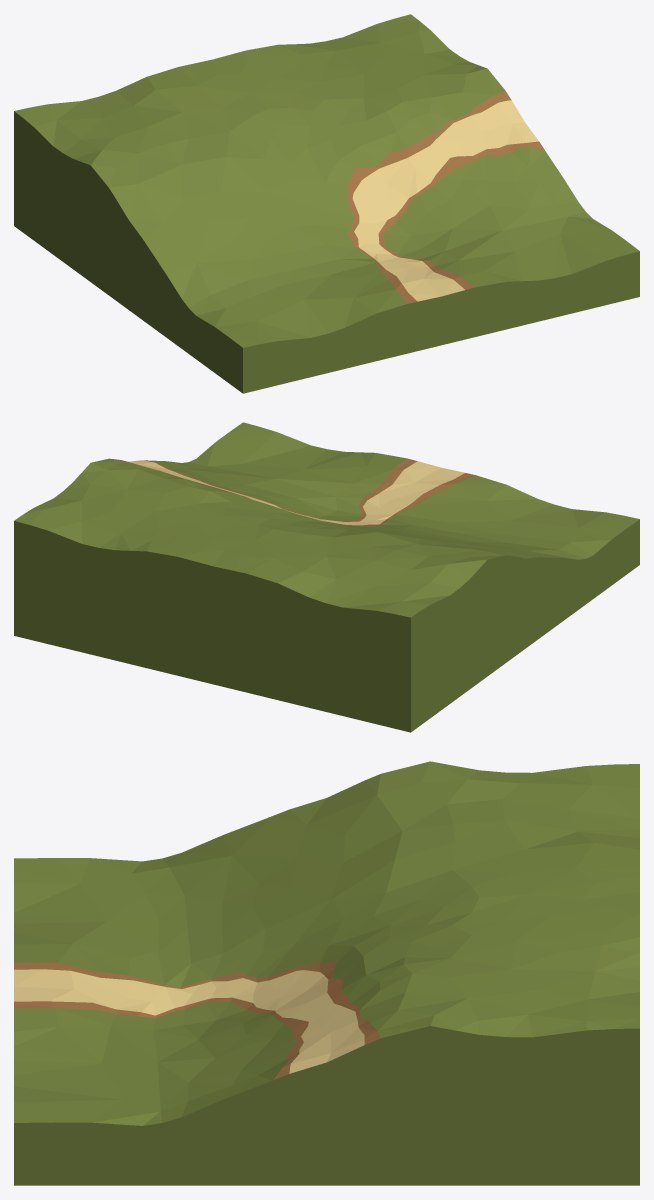
Rendered from Terrian_Road_Bend_Hill-01.fbx.
The picture shows the model from 3 angles, top to bottom: view 1: azimuth 30°, elevation 25°; view 2: azimuth 150°, elevation 25°; view 3: azimuth 270°, elevation 25°; orthographic projection. The views are drawn at different scales.
Visible parts, largest first — view 1: Terrian_Road_Bend_Hill-01; view 2: Terrian_Road_Bend_Hill-01; view 3: Terrian_Road_Bend_Hill-01.
Boxes of the visible parts, x1,y1,x2,y2 form: Terrian_Road_Bend_Hill-01: (14, 14, 639, 393); Terrian_Road_Bend_Hill-01: (14, 422, 639, 732); Terrian_Road_Bend_Hill-01: (14, 761, 639, 1185).
Size of the model in its own units: 3600 by 1031 by 3600.
1 material, 1 textured.
